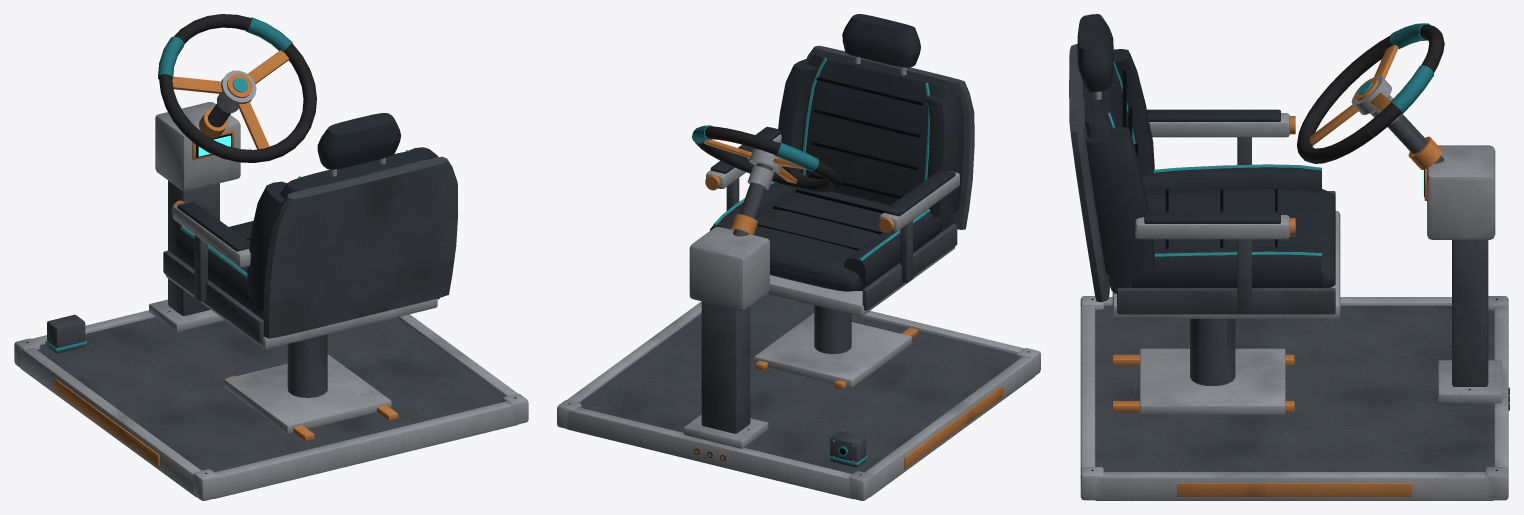
File: drivers_seat_3.glb
3 views of the same model, side by side, from view 1: azimuth 30°, elevation 25°; view 2: azimuth 150°, elevation 25°; view 3: azimuth 270°, elevation 25° (orthographic). The views are drawn at different scales.
Visible parts, largest first — view 1: Base, ShellFrame, Backrest, Cushion; view 2: Base, Backrest, ShellFrame, Cushion; view 3: Base, ShellFrame, Cushion, Backrest.
Part boxes in pixels (left/top/right/bottom): Base: left=14, top=14, right=528, bottom=500; ShellFrame: left=163, top=156, right=458, bottom=433; Backrest: left=247, top=113, right=438, bottom=319; Cushion: left=176, top=221, right=263, bottom=319; Base: left=557, top=125, right=1040, bottom=500; Backrest: left=778, top=14, right=963, bottom=231; ShellFrame: left=705, top=45, right=974, bottom=387; Cushion: left=710, top=173, right=942, bottom=291; Base: left=1080, top=23, right=1509, bottom=500; ShellFrame: left=1069, top=44, right=1340, bottom=414; Cushion: left=1132, top=164, right=1335, bottom=287; Backrest: left=1077, top=14, right=1154, bottom=293.
Size of the model in its own units: 0.948 by 0.9239 by 0.9681.
Materials: 11 (7 with a texture image).
